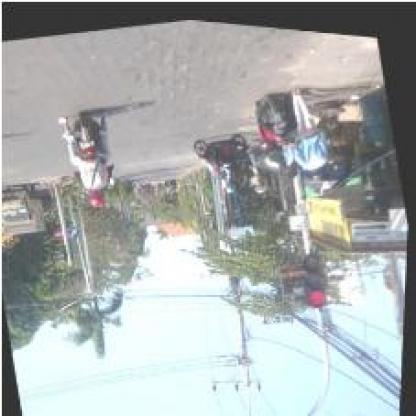red: (298, 244, 332, 302)
